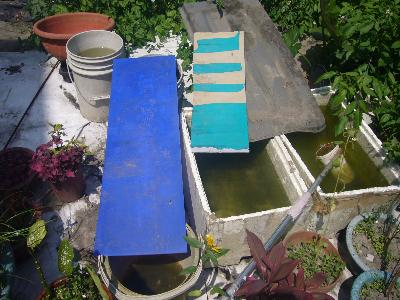bowl: (31, 11, 117, 63)
bucket: (93, 219, 201, 298), (63, 31, 125, 125)
styrofoam: (181, 104, 311, 265), (278, 85, 400, 233)
